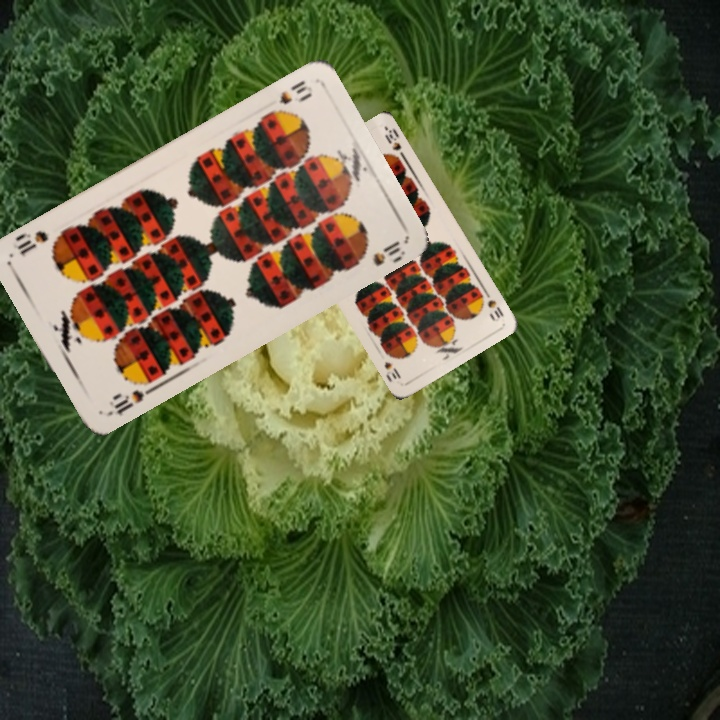S10: (264, 76, 316, 116), (103, 383, 156, 419), (479, 285, 506, 323)
